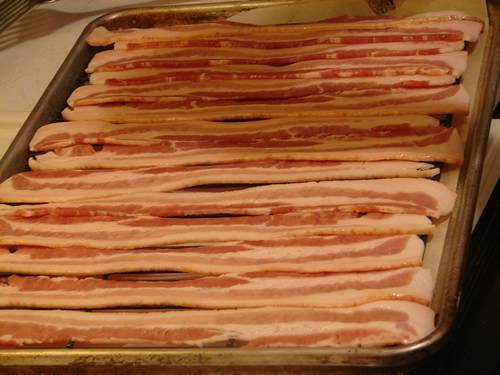bacon: (40, 11, 435, 347)
